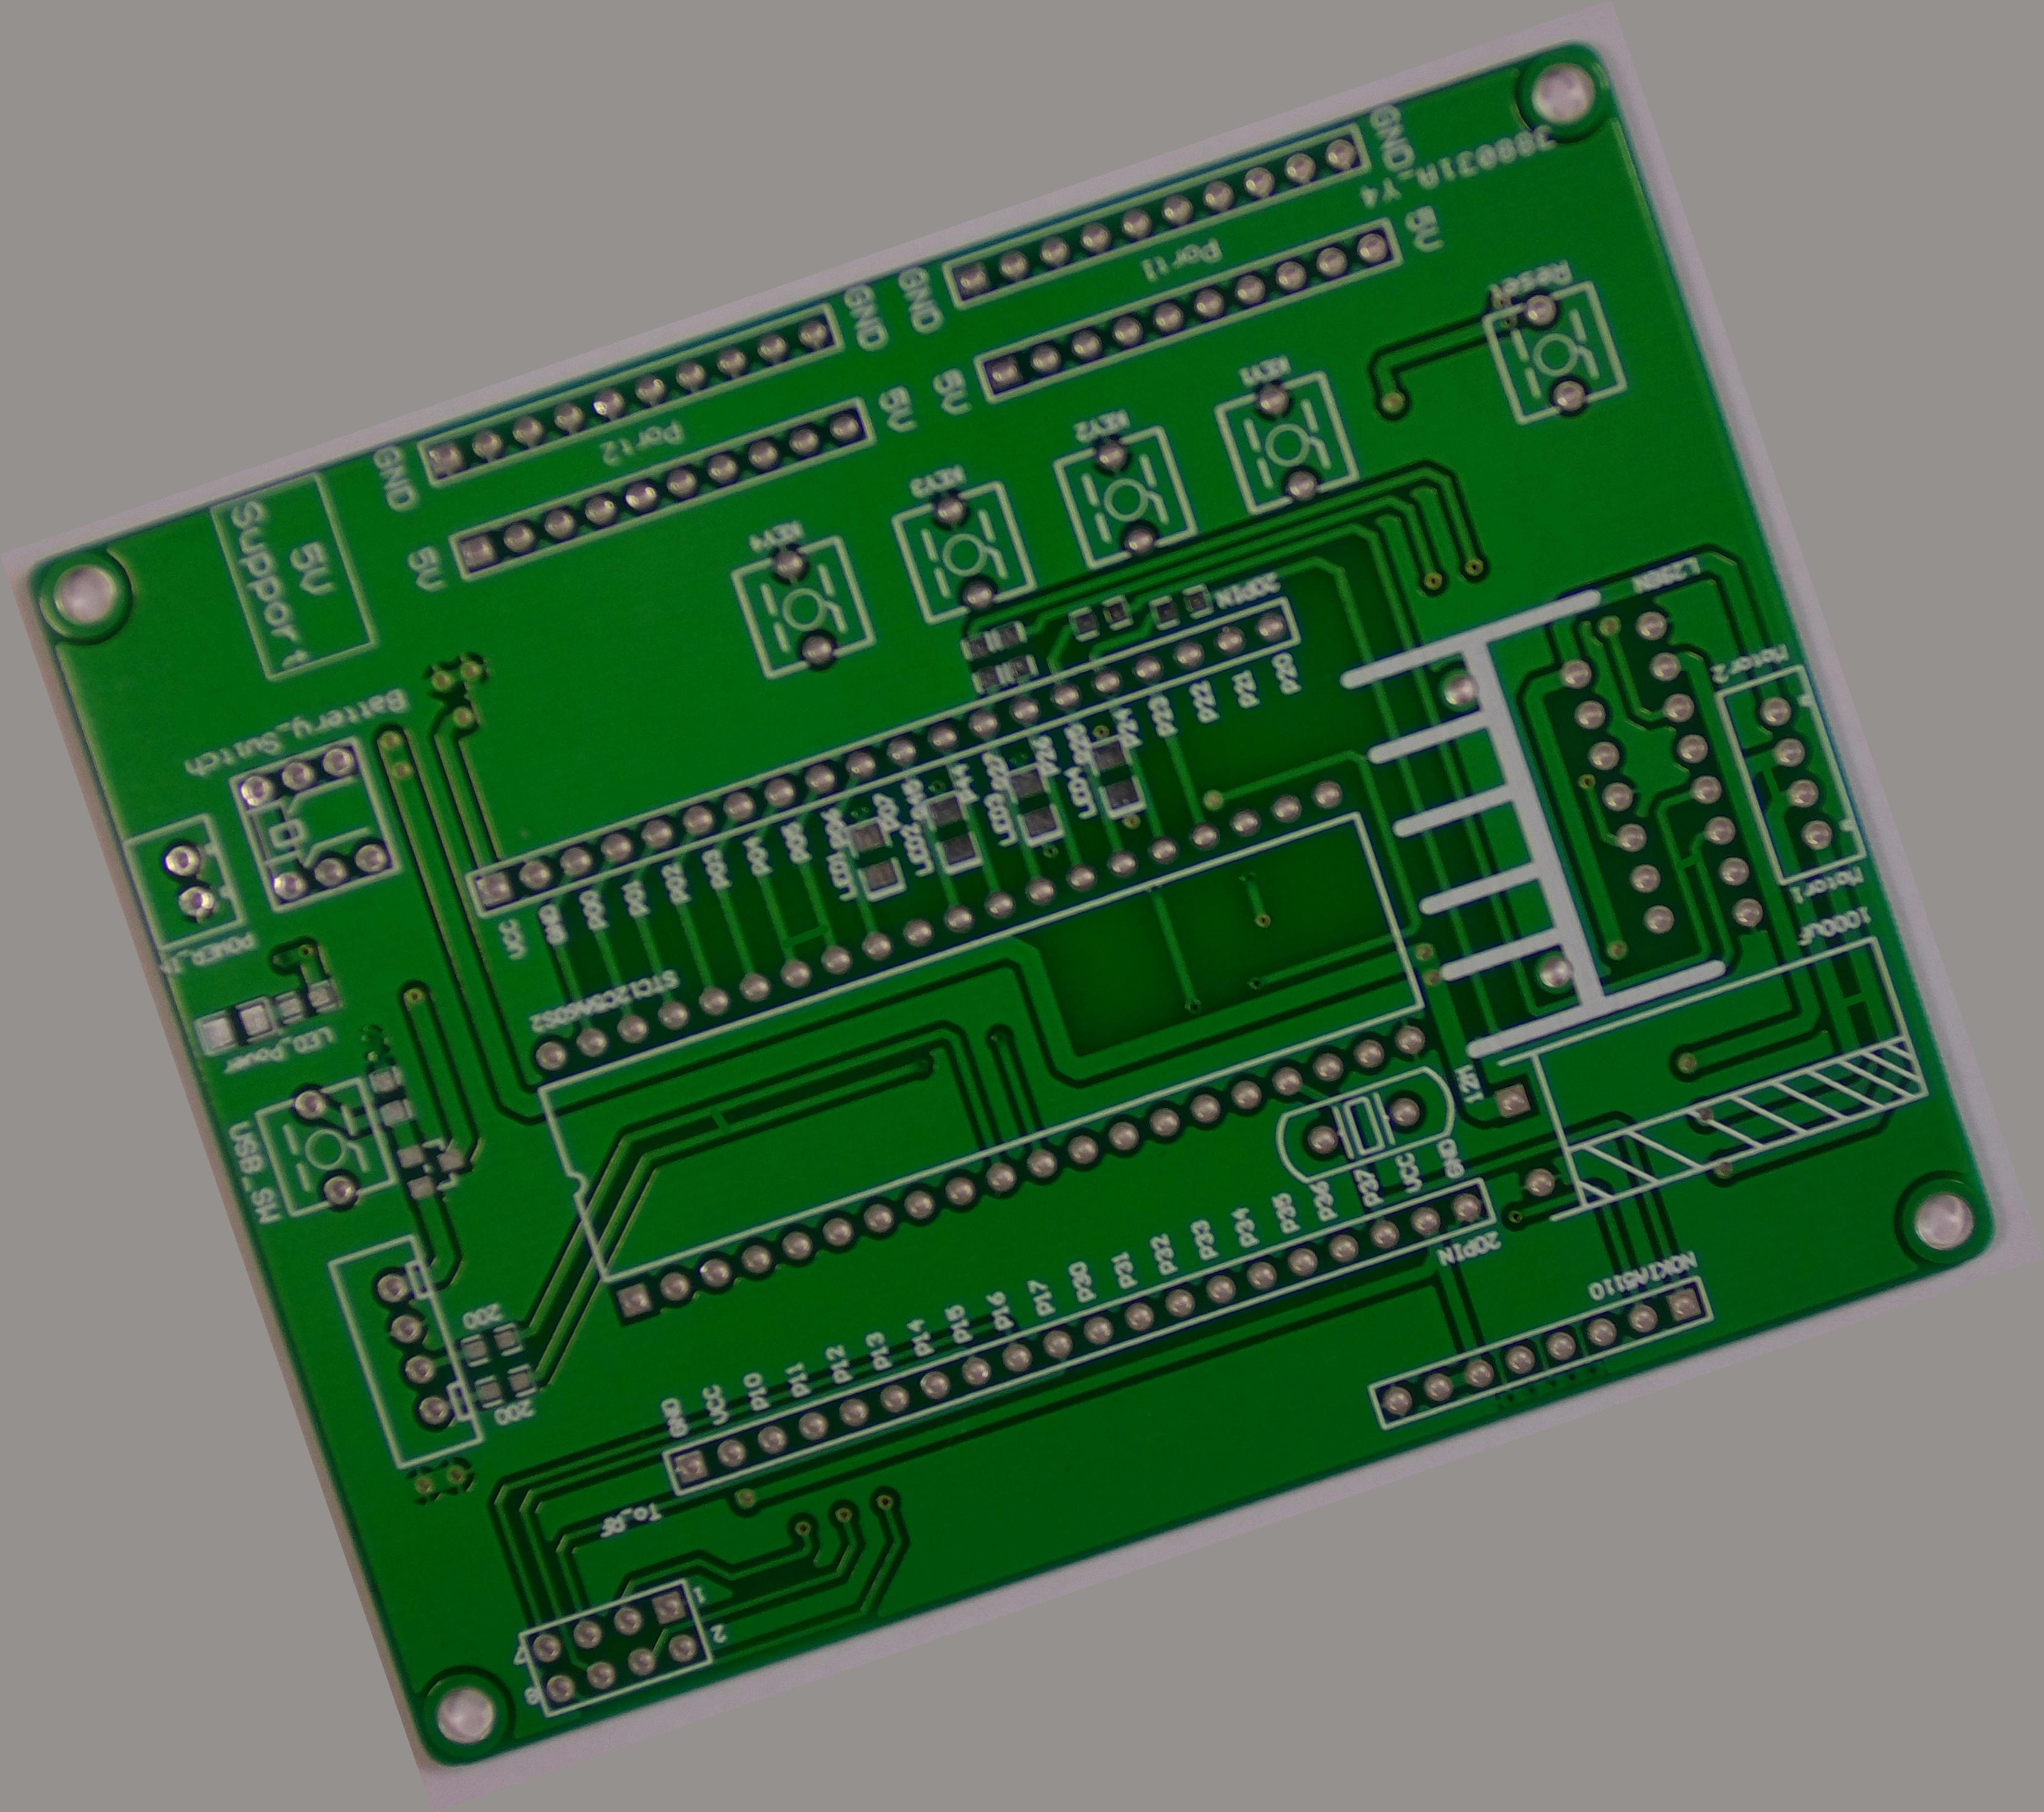short: (761, 897, 852, 983), (1818, 967, 1895, 1035), (1739, 745, 1806, 815), (684, 1090, 749, 1153), (1662, 834, 1715, 889)
